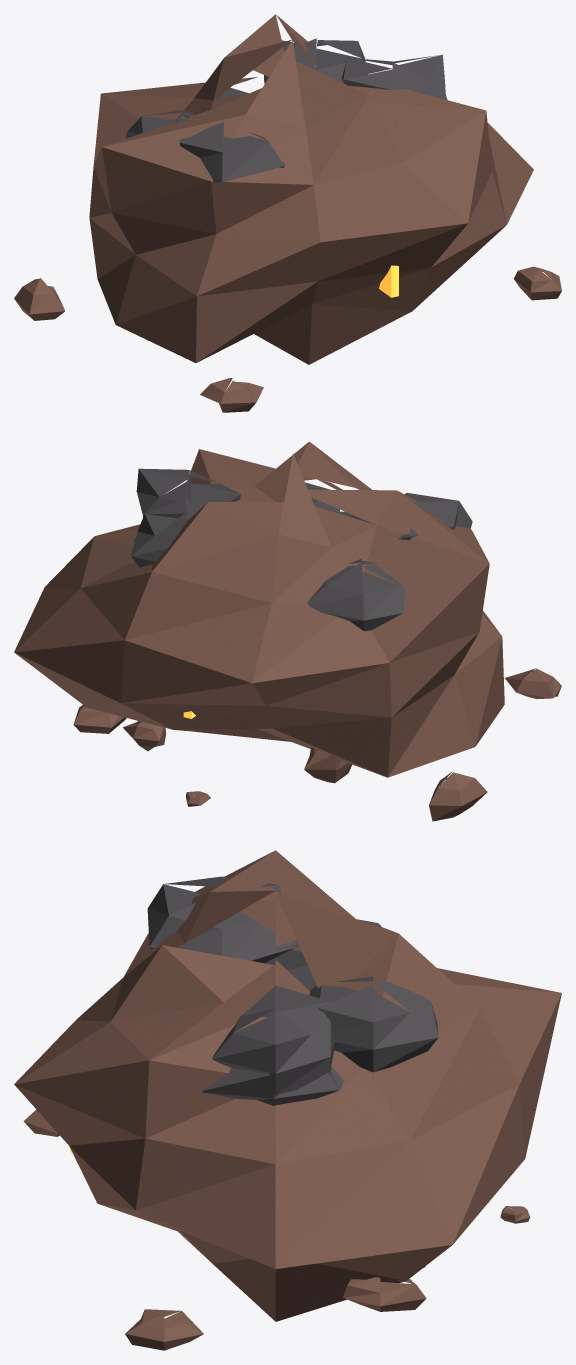
Rendered from volcano-and-lava-fields-volcano-and-lava-fields-volcan-1f1f7775__37472.glb.
The picture shows the model from 3 angles, top to bottom: view 1: azimuth 30°, elevation 25°; view 2: azimuth 150°, elevation 25°; view 3: azimuth 270°, elevation 25°; orthographic projection. The views are drawn at different scales.
Visible parts, largest first — view 1: volcano-and-lava-fields-volcanic-bomb-large; view 2: volcano-and-lava-fields-volcanic-bomb-large; view 3: volcano-and-lava-fields-volcanic-bomb-large.
Part boxes in pixels (x1=…): volcano-and-lava-fields-volcanic-bomb-large: x1=14, y1=14, x2=561, y2=412; volcano-and-lava-fields-volcanic-bomb-large: x1=14, y1=441, x2=561, y2=821; volcano-and-lava-fields-volcanic-bomb-large: x1=14, y1=850, x2=561, y2=1350.
Bounding box in the file's own units: 2.43 × 1.47 × 2.
Materials: 3 (1 with a texture image).
